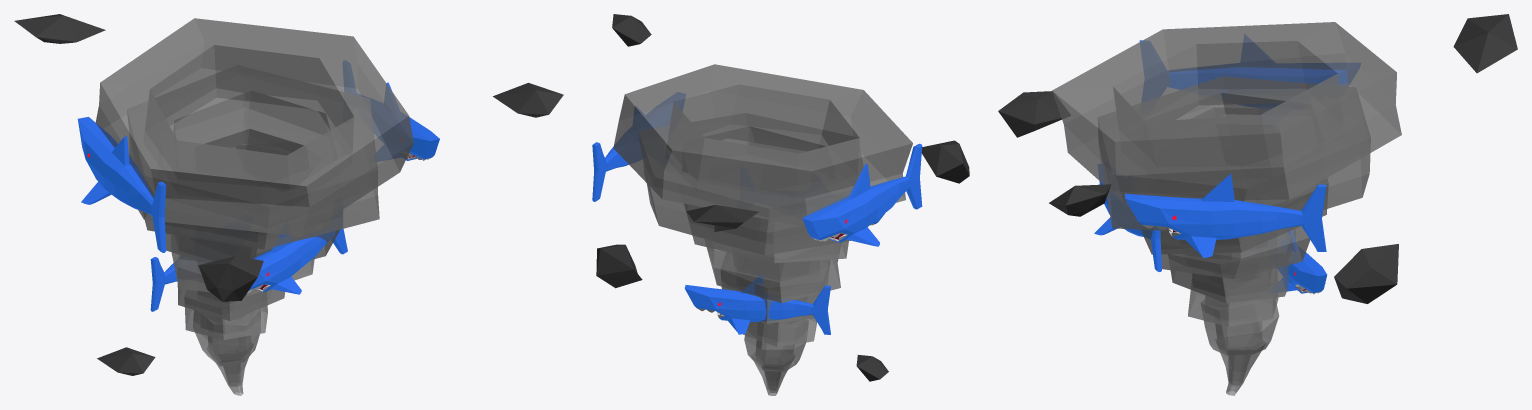
The model's file is sharknado merged.fbx.
3 renders of one model, left to right at view 1: azimuth 30°, elevation 25°; view 2: azimuth 150°, elevation 25°; view 3: azimuth 270°, elevation 25°, orthographic. The views are drawn at different scales.
Visible parts, largest first — view 1: Cylinder.004; view 2: Cylinder.004; view 3: Cylinder.004.
Boxes of the visible parts, x1,y1,x2,y2 form: Cylinder.004: [14, 14, 563, 395]; Cylinder.004: [592, 14, 969, 395]; Cylinder.004: [998, 14, 1517, 395].
Bounding box in the file's own units: 204 × 158 × 220.
